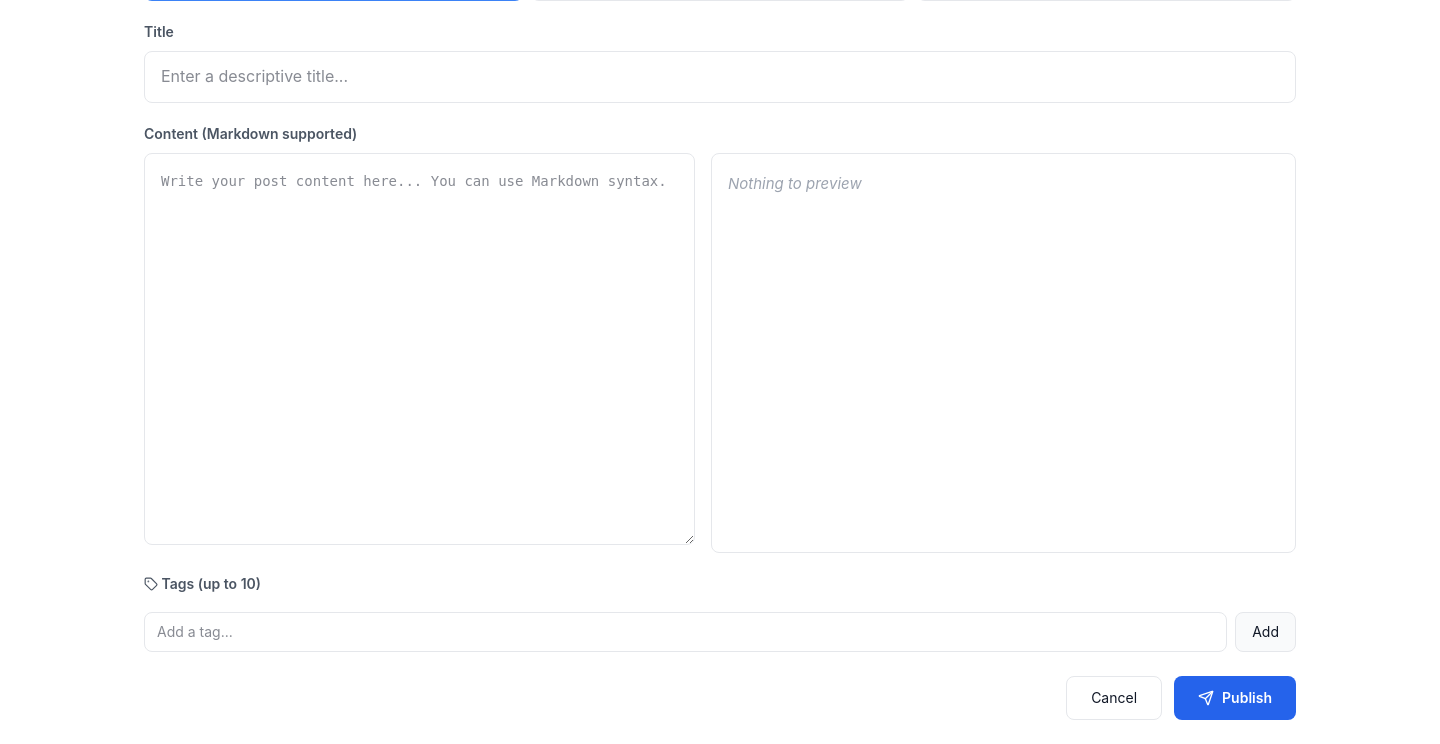
Scenario: CreatePostPage › Create Mode › should show validation error when title is empty
(page scrolled)
Step 1. Click the button "Publish" → click(1235, 698), box [1174, 676, 1296, 720]
(page scrolled)
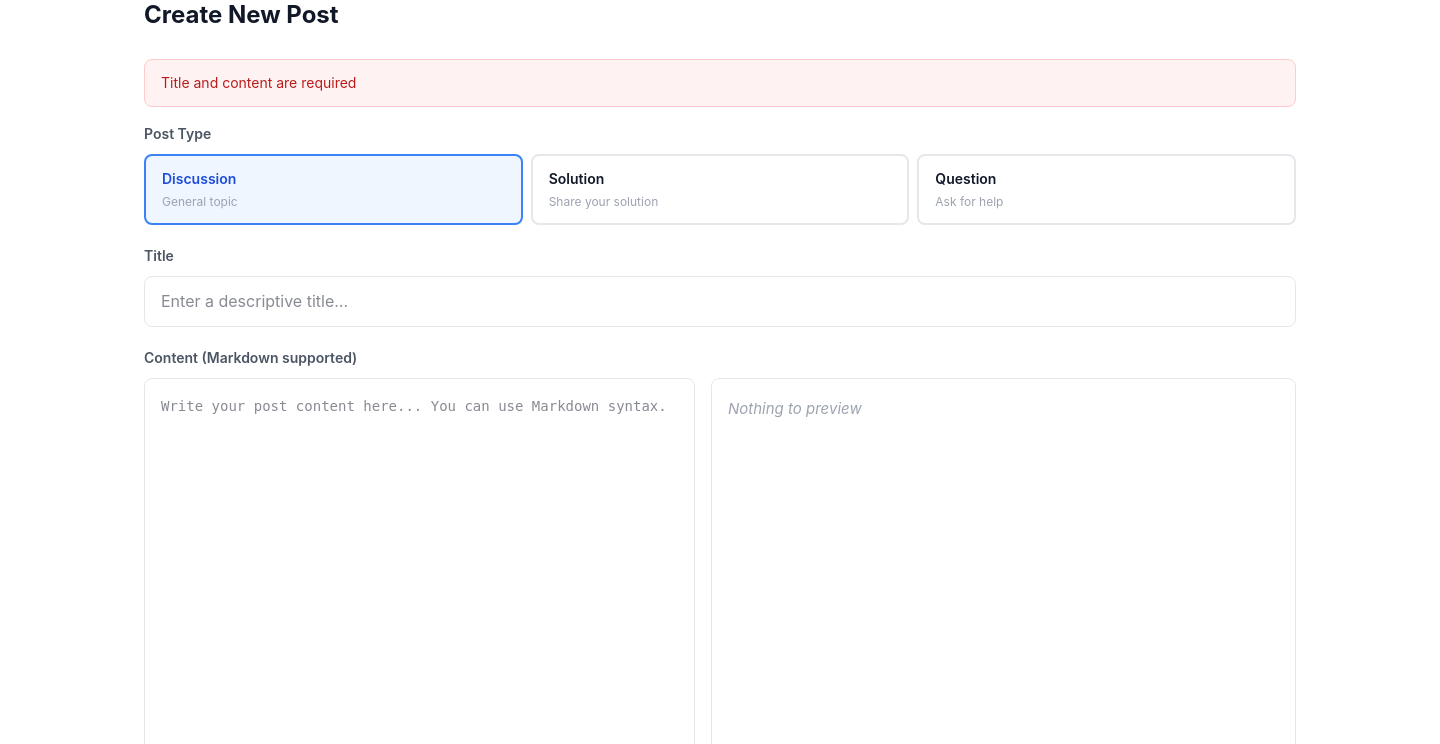
Expected: the text "Title and content are required" is shown, [144, 59, 1296, 107]
